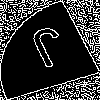J: (25, 25, 77, 78)
